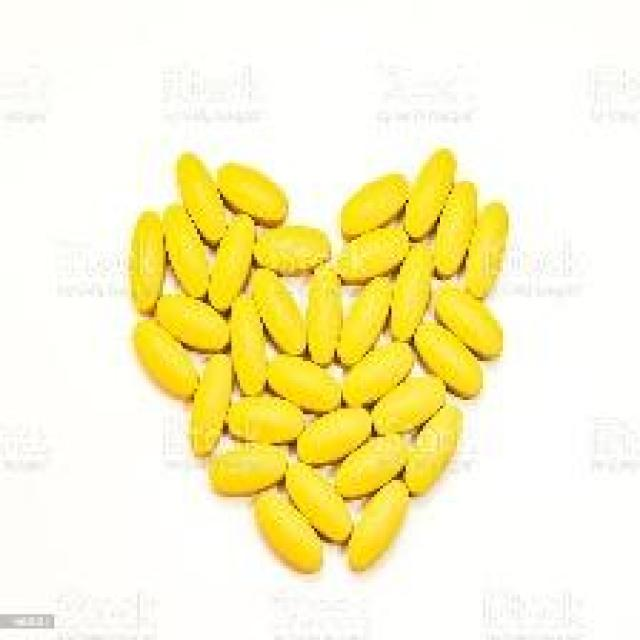Medicine: (116, 143, 516, 578)
